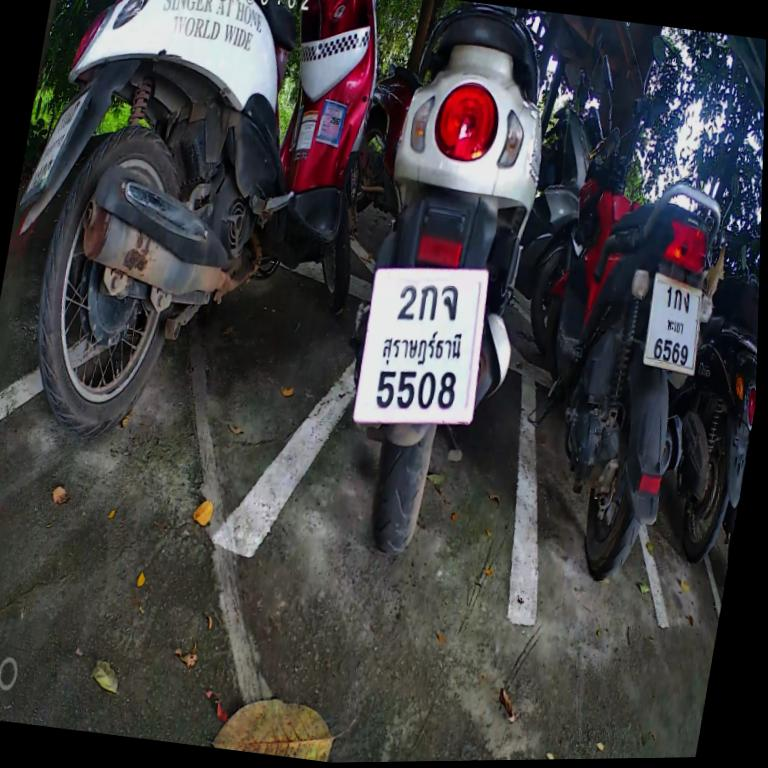license plate: (341, 247, 507, 450), (13, 66, 99, 225), (629, 263, 718, 380)
